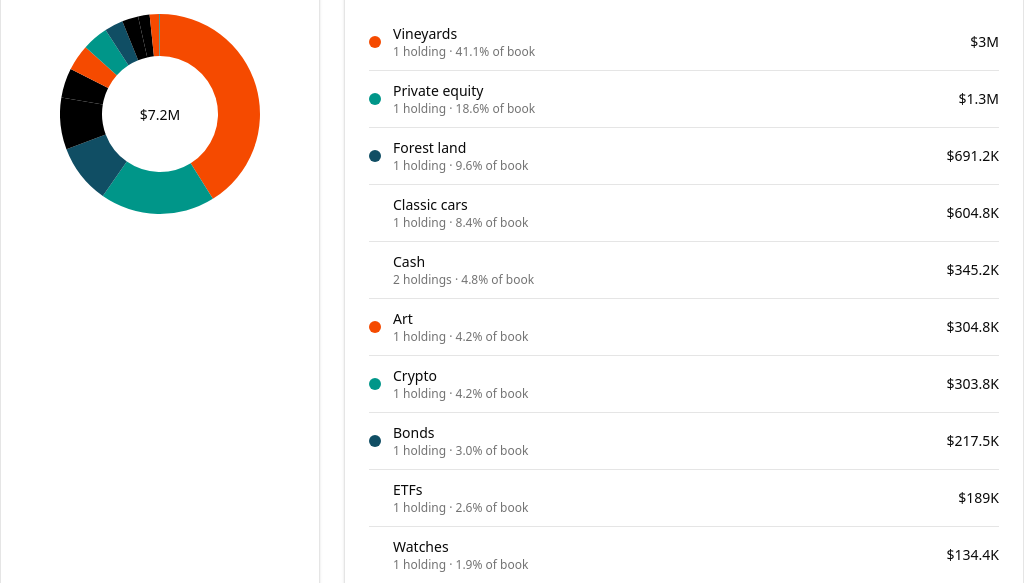
Test: NetWorthDashboard › drills into an asset class when its row is clicked
(page scrolled)
Click the button with test id "asset-class-row" that starts with "Crypto" at {"x": 415, "y": 376}, box [369, 356, 999, 412]
(page scrolled)
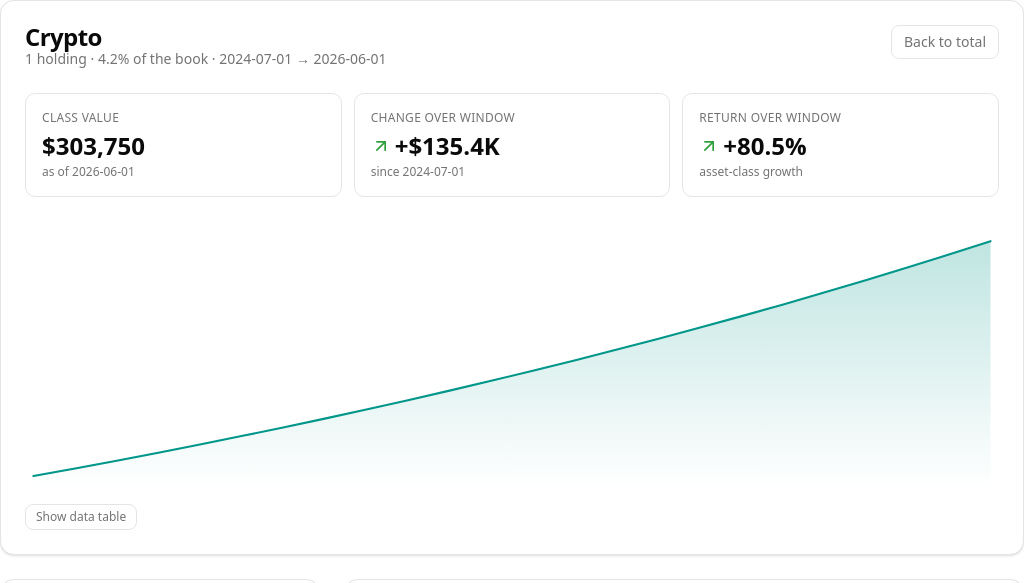
Now the text with test id "networth-chart-title" reads "Crypto", box [25, 20, 102, 53]
Now the button with test id "networth-clear-selection" is shown, box [891, 25, 999, 59]
